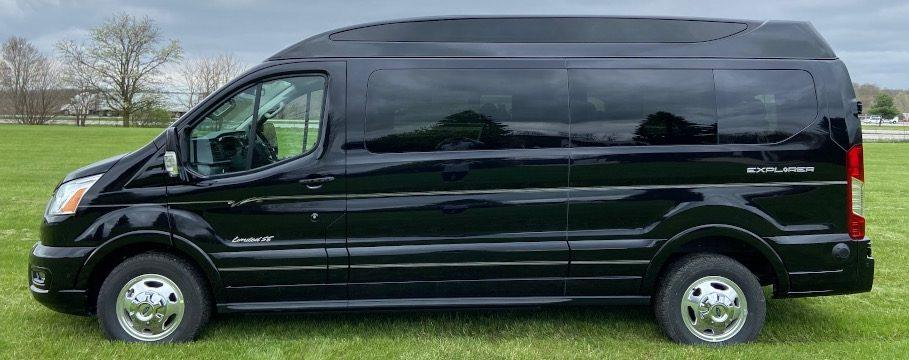van: (27, 15, 873, 348)
